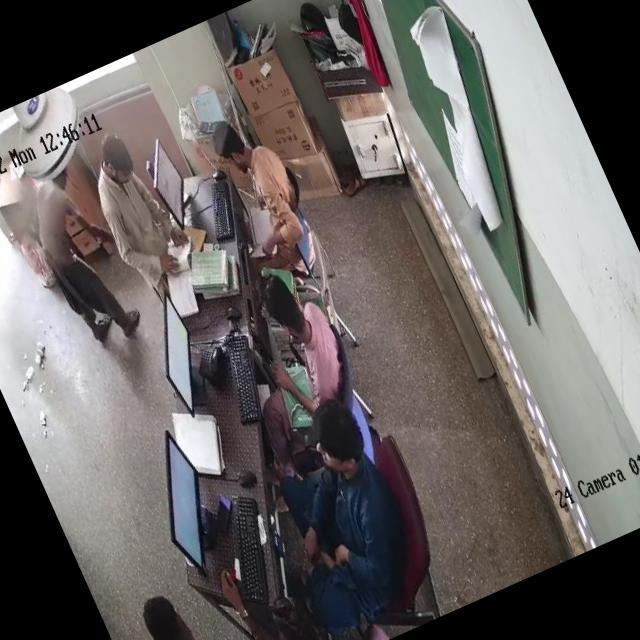person: (238, 382, 436, 638), (13, 164, 139, 358), (74, 128, 185, 290), (209, 115, 322, 271), (246, 250, 349, 396), (225, 559, 342, 640), (129, 570, 258, 640)
